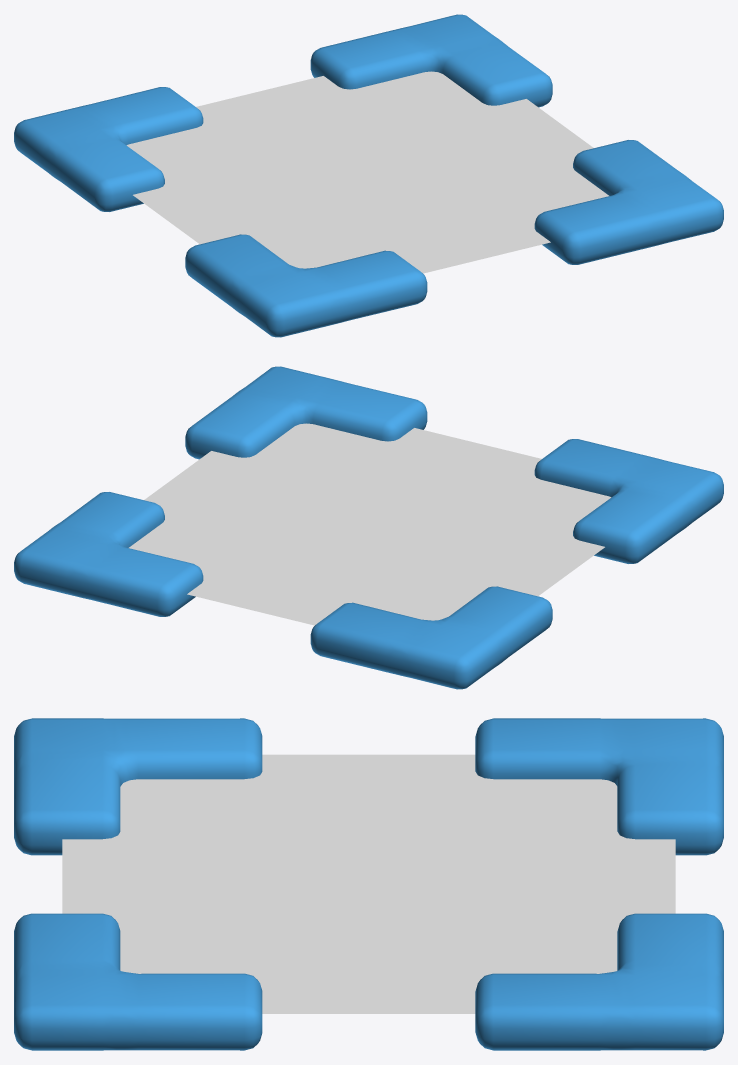
The model's file is Frame.fbx.
3 views of the same model, one above another, from view 1: azimuth 30°, elevation 25°; view 2: azimuth 150°, elevation 25°; view 3: azimuth 270°, elevation 25° (orthographic). The views are drawn at different scales.
Visible parts, largest first — view 1: Plane, Cube; view 2: Plane, Cube; view 3: Plane, Cube.
Boxes of the visible parts, x1=… form: Plane: x1=126, y1=71, x2=608, y2=273; Cube: x1=14, y1=14, x2=723, y2=337; Plane: x1=129, y1=423, x2=611, y2=625; Cube: x1=14, y1=366, x2=723, y2=689; Plane: x1=62, y1=754, x2=675, y2=1013; Cube: x1=14, y1=718, x2=723, y2=1050.
Bounding box in the file's own units: 200 × 13.64 × 200.
